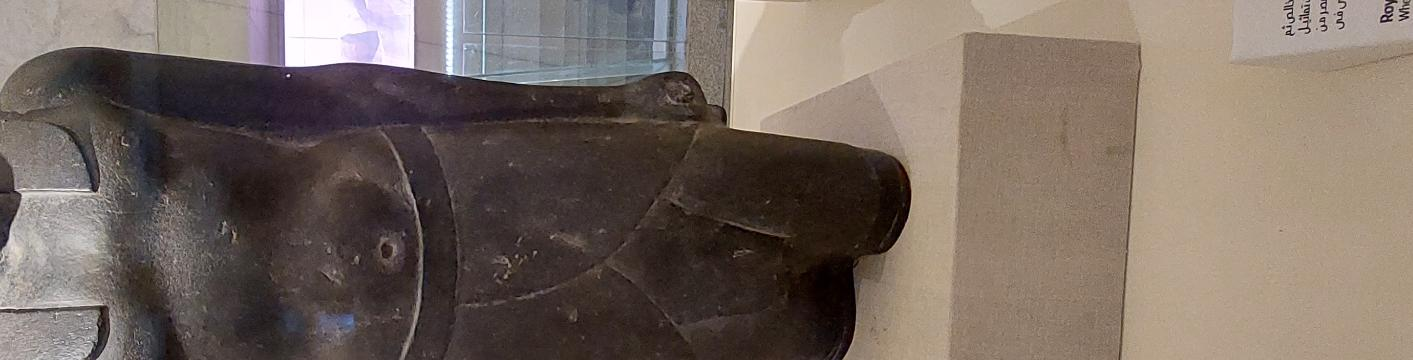RoyalStatues: (0, 56, 245, 360)
